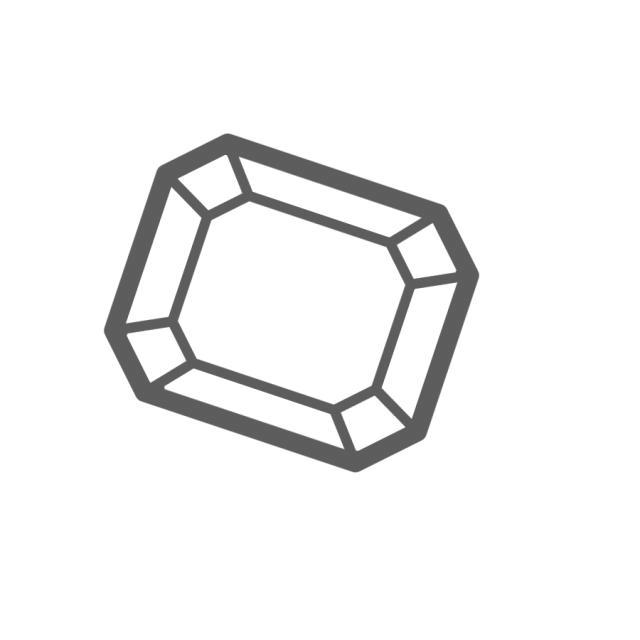emerald: (96, 129, 486, 483)
